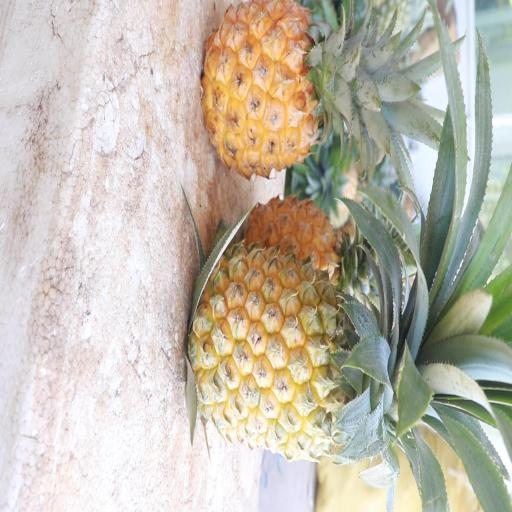Pineapple - v8 v1: (186, 239, 444, 465), (200, 0, 384, 187), (242, 190, 371, 311)
